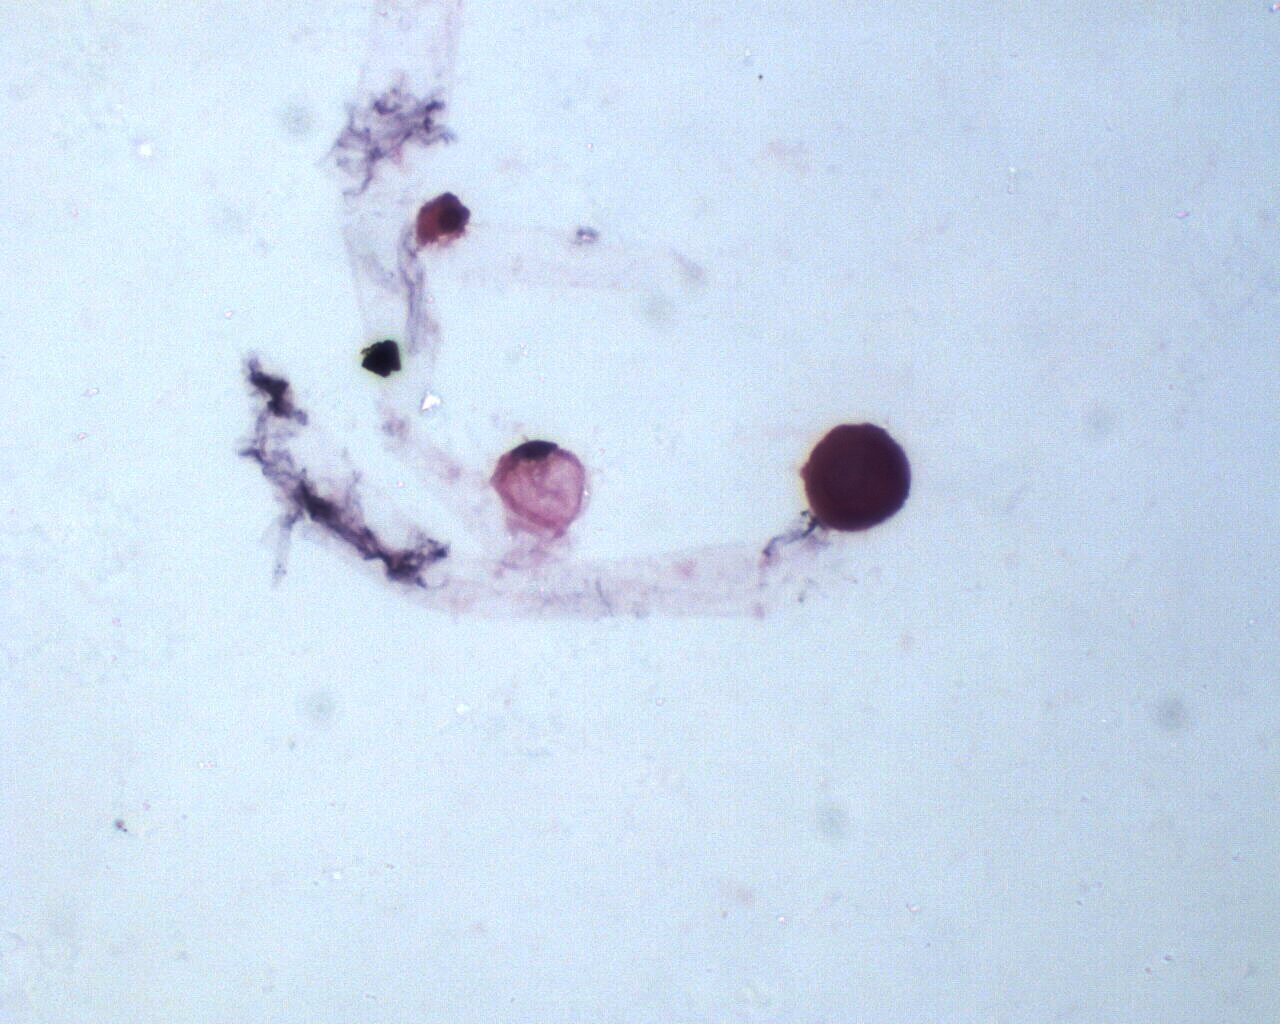ab: (797, 418, 918, 535)
histo: (487, 435, 589, 542)
